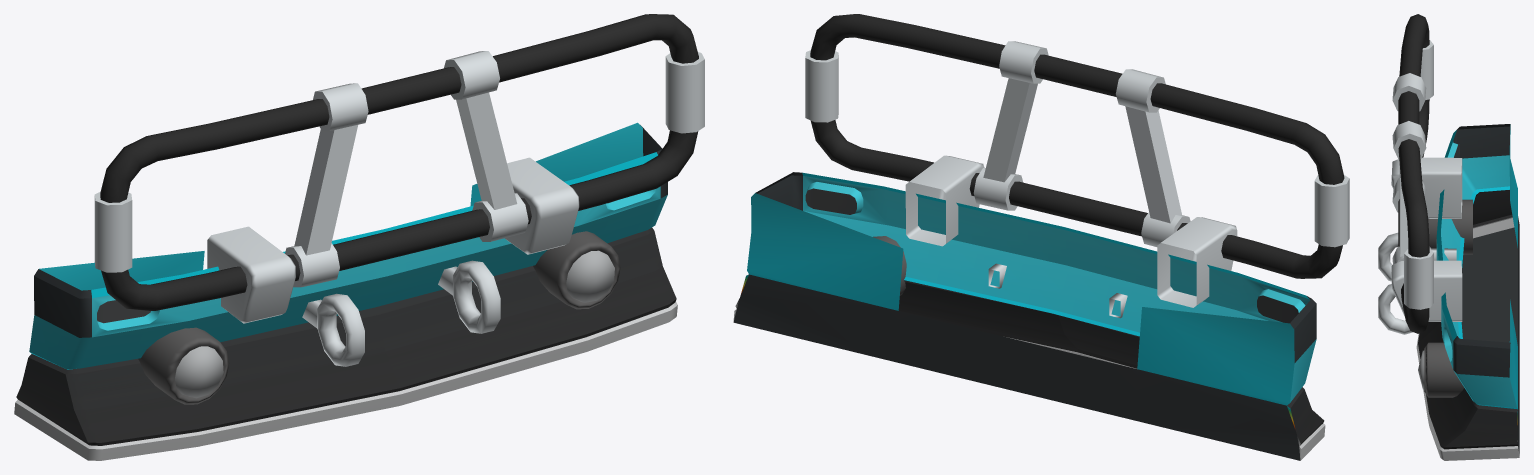
The model's file is Car_04_FrontBumper_Cool.fbx.
3 renders of one model, left to right at view 1: azimuth 30°, elevation 25°; view 2: azimuth 150°, elevation 25°; view 3: azimuth 270°, elevation 25°, orthographic. The views are drawn at different scales.
Parts seen in each view (by area): view 1: Car_04_FrontBumper_Cool; view 2: Car_04_FrontBumper_Cool; view 3: Car_04_FrontBumper_Cool.
Boxes of the visible parts, bbox=[...] form: Car_04_FrontBumper_Cool: bbox=[14, 14, 704, 460]; Car_04_FrontBumper_Cool: bbox=[733, 14, 1349, 460]; Car_04_FrontBumper_Cool: bbox=[1378, 14, 1519, 460].
Bounding box in the file's own units: 197 × 50.79 × 100.
